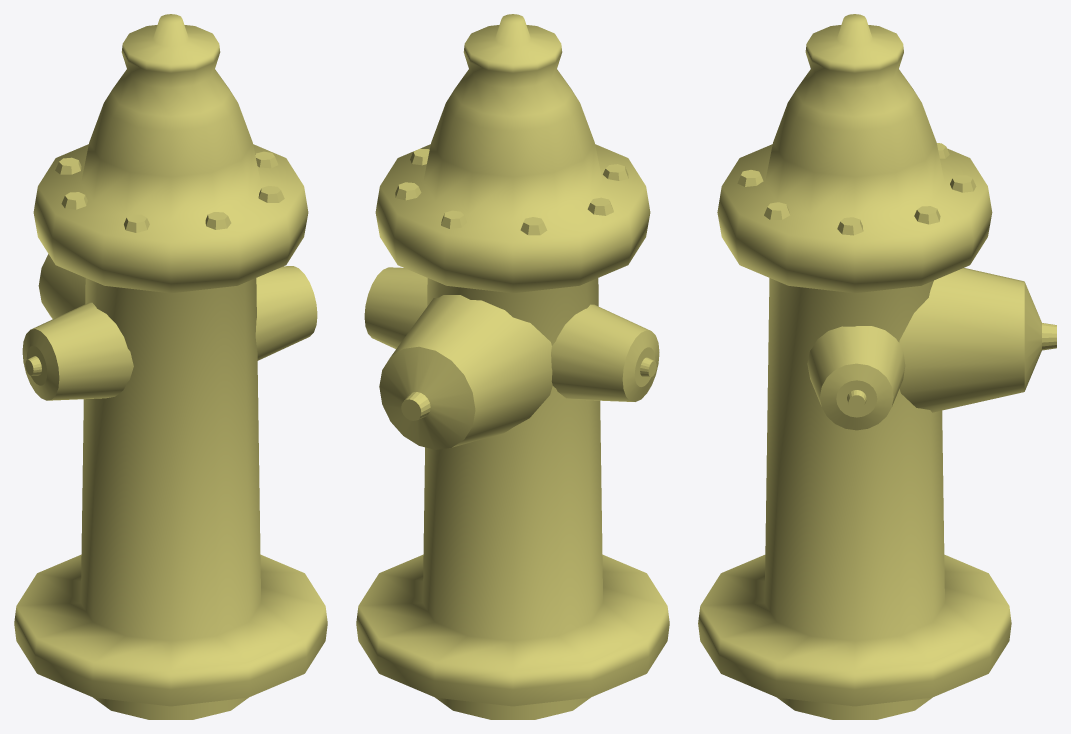
The model's file is fire_hydrant.fbx.
3 renders of one model, left to right at view 1: azimuth 30°, elevation 25°; view 2: azimuth 150°, elevation 25°; view 3: azimuth 270°, elevation 25°, orthographic.
Parts seen in each view (by area): view 1: fire_hydrant; view 2: fire_hydrant; view 3: fire_hydrant.
Boxes of the visible parts, <box> form: fire_hydrant: <box>14,14,327,719</box>; fire_hydrant: <box>356,14,669,719</box>; fire_hydrant: <box>698,14,1056,719</box>.
Size of the model in its own units: 1.03 by 2.34 by 1.14.
